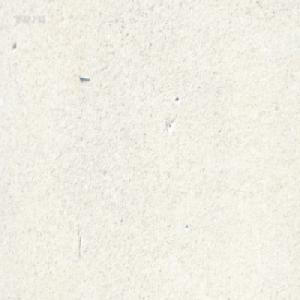Nail: (77, 72, 91, 81)
